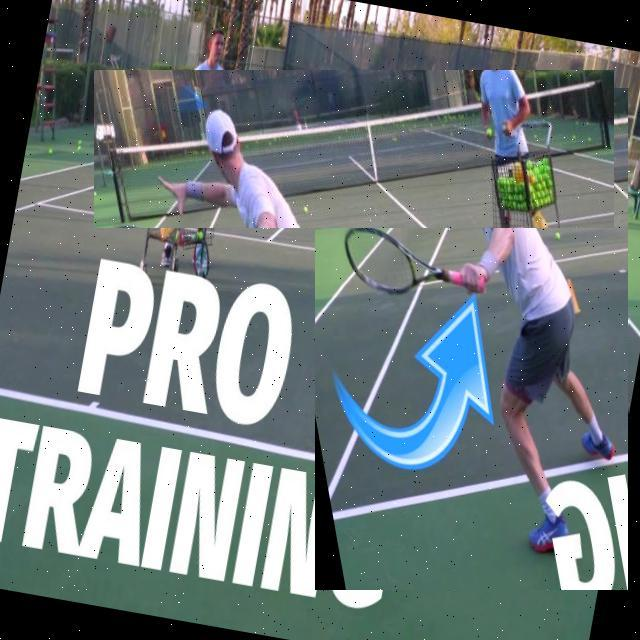net: (94, 70, 614, 228)
player: (316, 88, 630, 590)
